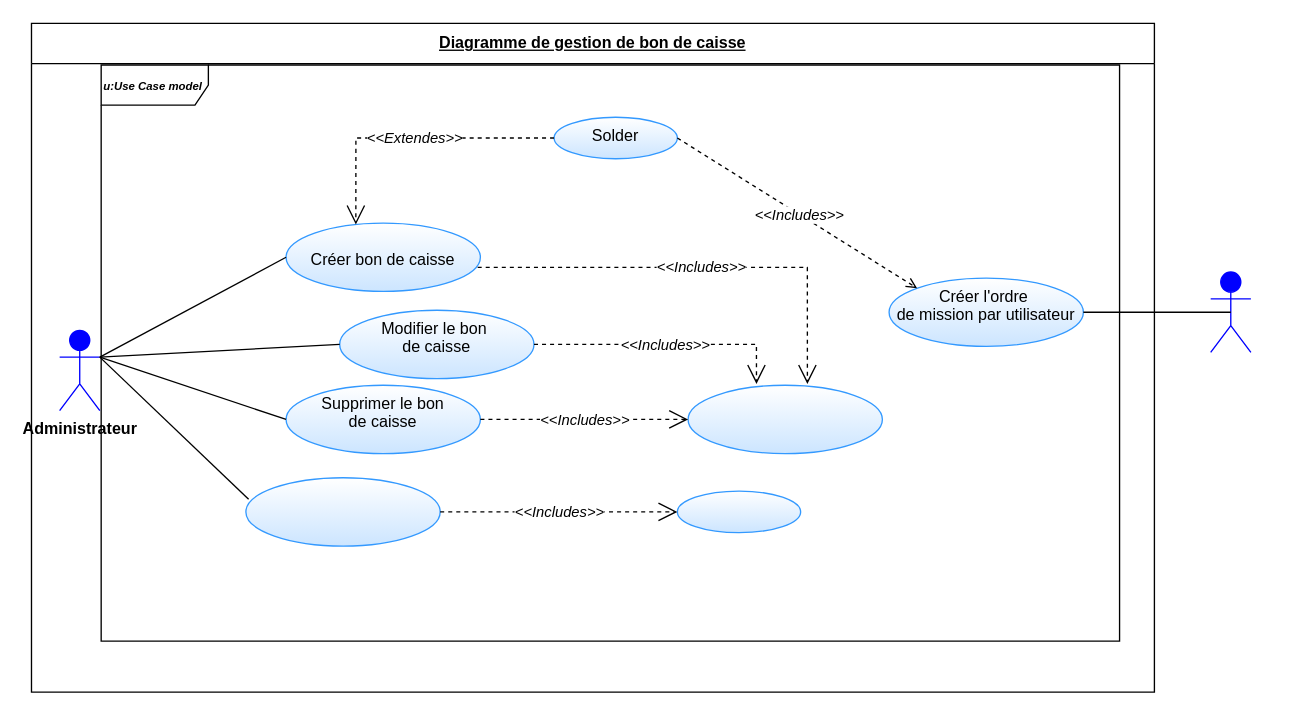
Image size: 1307x716. Some labels were removed from this diagram. Here are the shapes that lost their labels. From the top down, the centre of each, then its label:
At (x=1230, y=311): "Collaborateur".
At (x=784, y=419): "Authentifier".
At (x=342, y=511): "Consulter la liste des bons de caisse".
At (x=738, y=511): "Filtrer".
